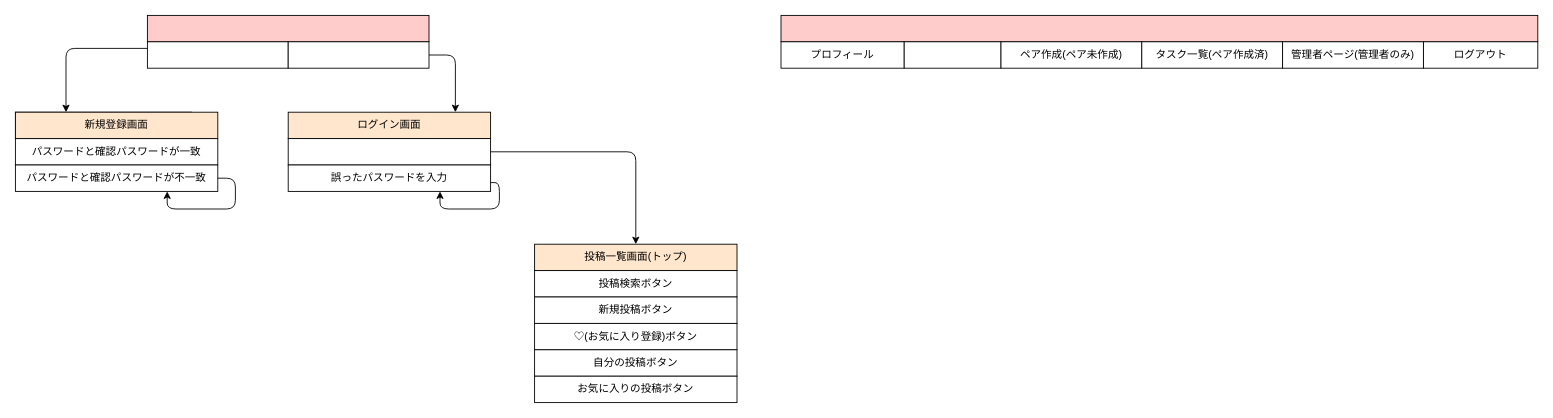
This 1553x418 diagram has some shape labels left out. The box of each missing label's shape, as (x1, y1, x2, y2) in pixels:
グローバルナビゲーション(ログアウト中): (147, 15, 429, 42)
グローバルナビゲーション(ログイン中): (780, 15, 1538, 42)
ログイン: (287, 41, 429, 68)
投稿: (903, 41, 1001, 68)
新規登録: (147, 41, 288, 68)
正しいパスワードを入力: (287, 138, 491, 165)
